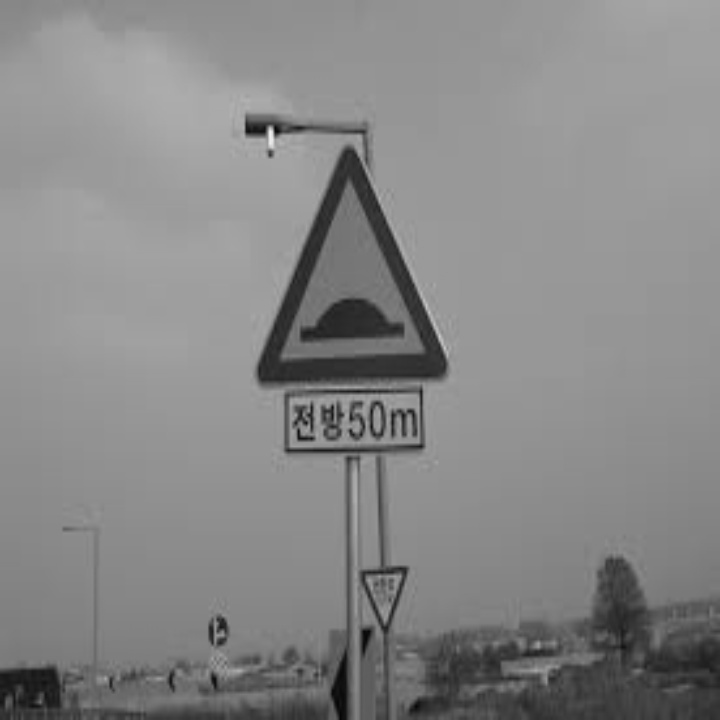bump: (291, 286, 407, 346)
